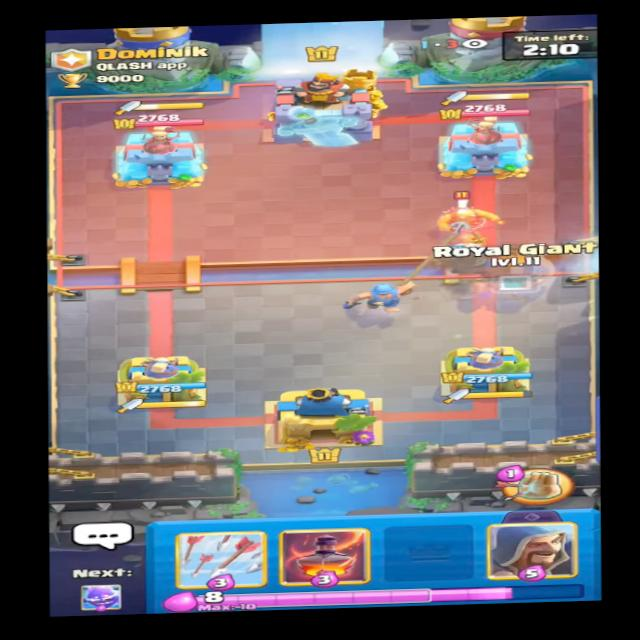goblin-demolisher: (432, 195, 502, 235)
